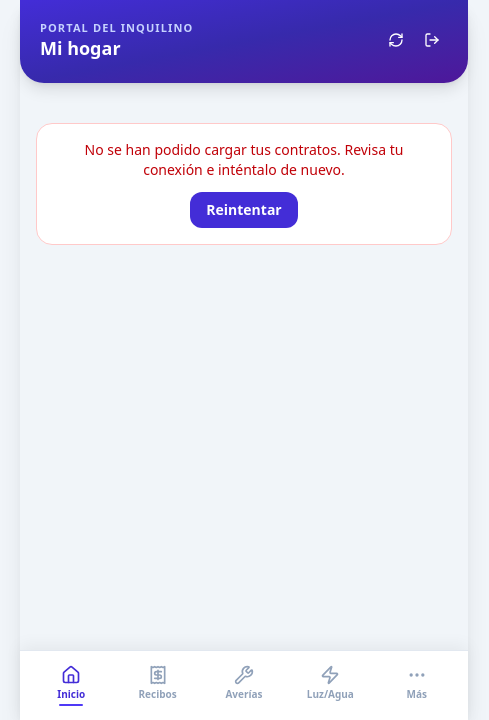
Test: E · Portal · estados vacíos, inválidos y de error › error de lectura de Firestore (permiso denegado) → estado de error, no pantalla rota ni datos parciales
Check: the text "No se han podido cargar tus contratos" is shown, box [85,140,403,179]
Check: the text "Calle Test A" is not shown
Click the button "Reintentar". click: (244,210)
box: [190,192,298,228]
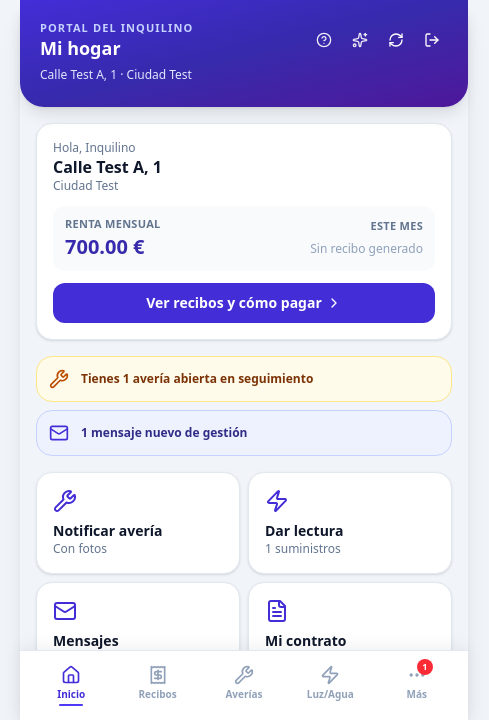
Check: the text "Calle Test A, 1" is shown, box [40,66,117,83]
